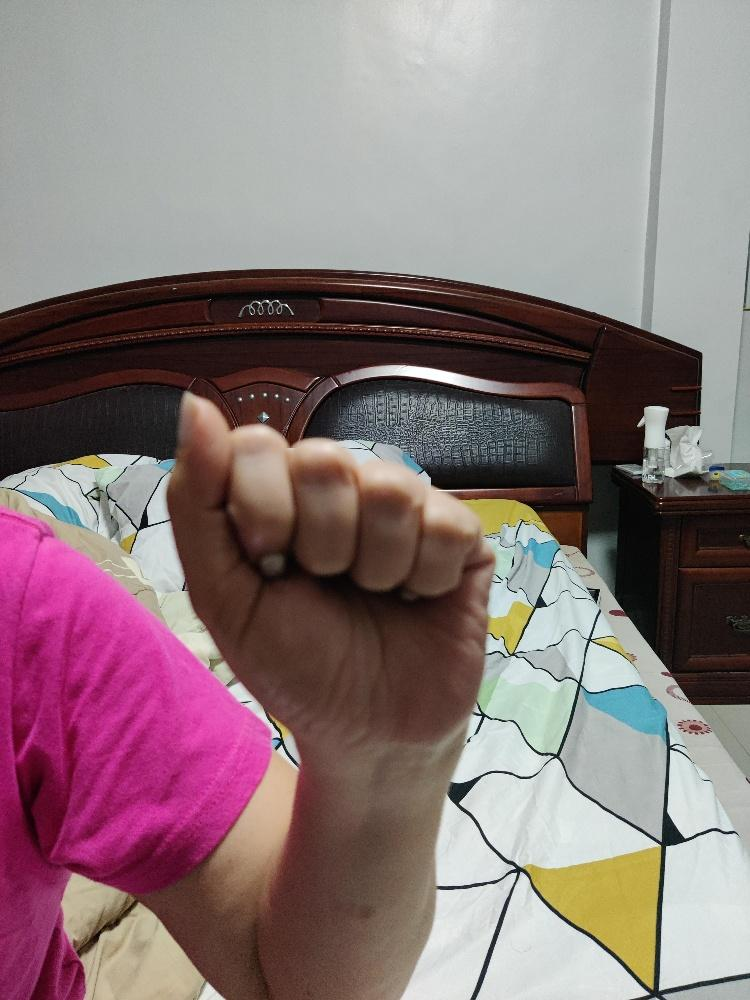a: (163, 386, 495, 749)
